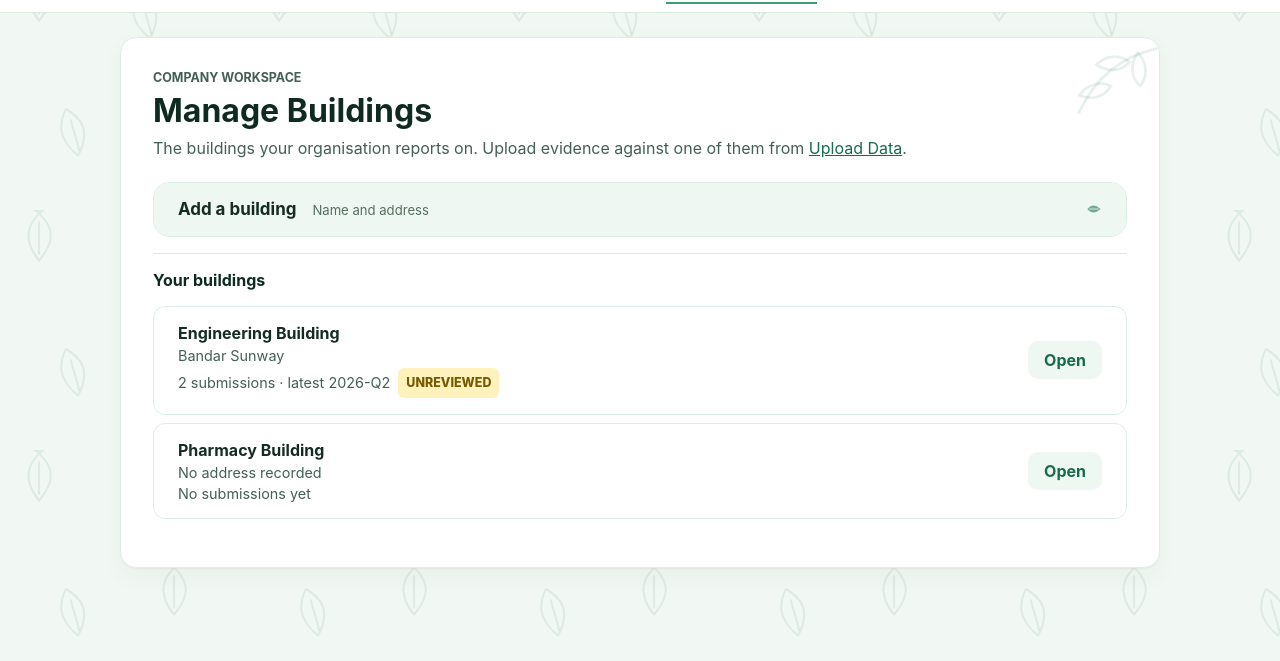
Scenario: assigning auditors to a submission › a submission can be given more than one auditor
Expected: the heading "Engineering Building" is shown, [178,323,340,343]
Click the button "Open" in the row of "Bandar Sunway" at (1065, 360), box [1028,341,1102,379]
(page scrolled)
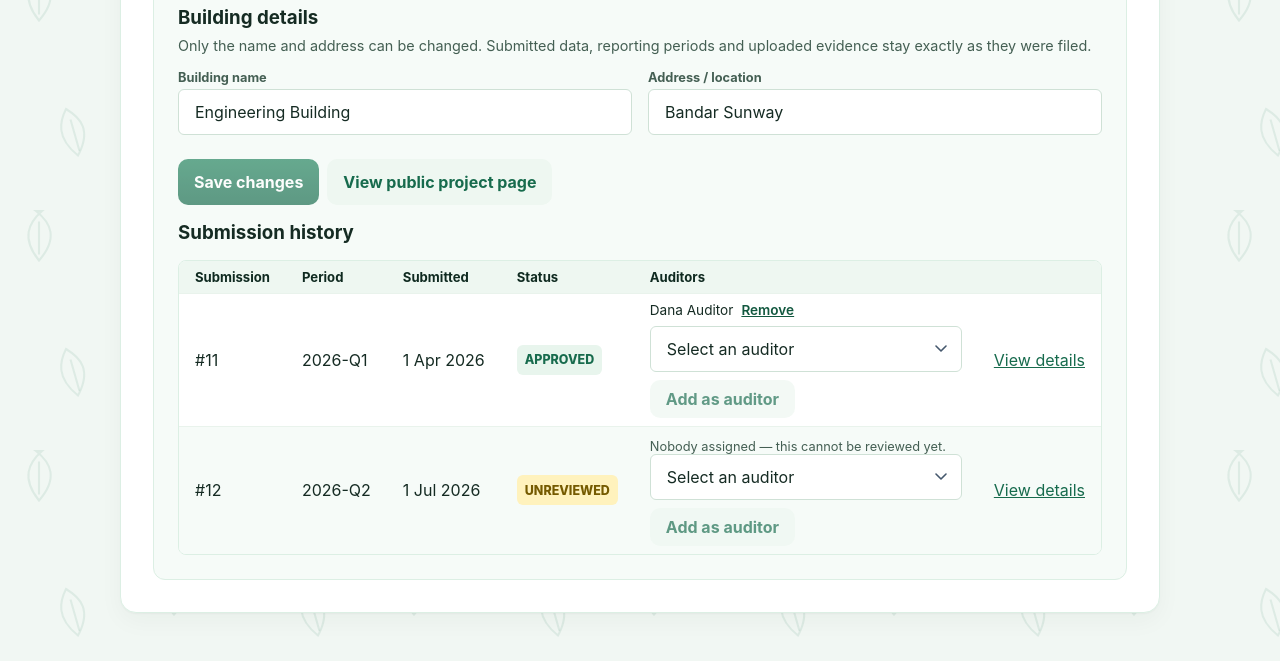
Select "Dana Auditor (dana@greenchain.test)" in the dropdown named "Add an auditor to submission 12" in the row of "12" at (806, 477), box [650,454,962,500]
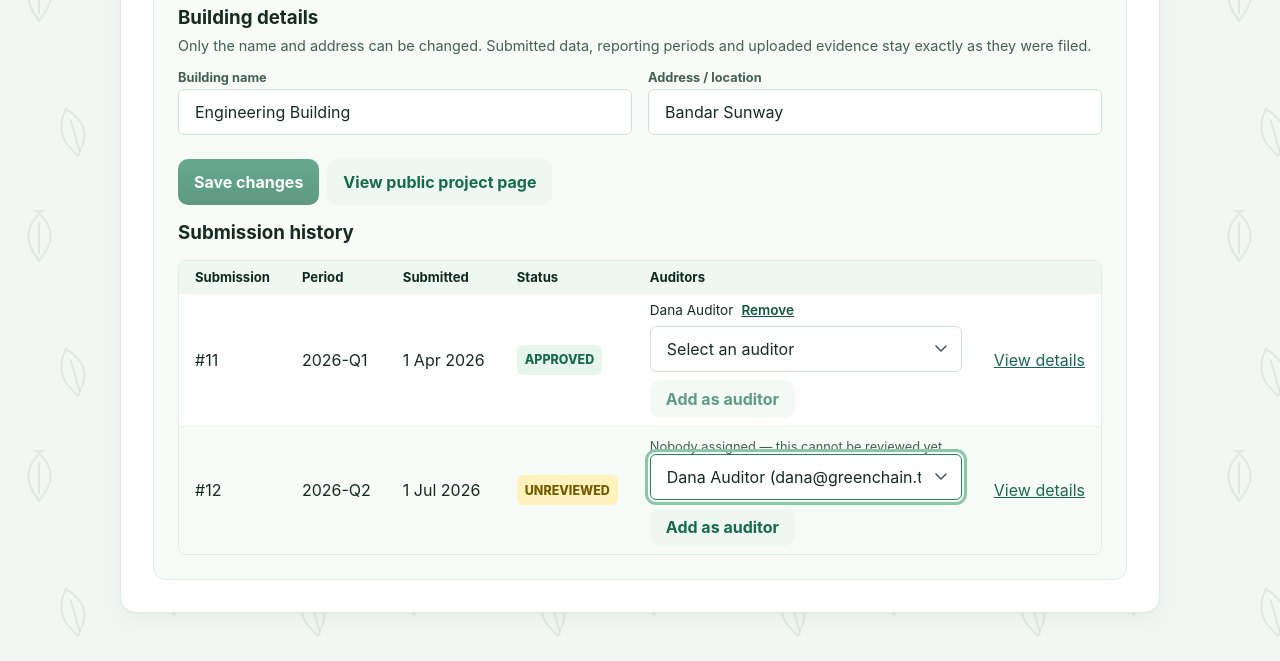
Click the button "Add as auditor" below "1 Jul 2026" at (722, 527), box [650,508,795,546]
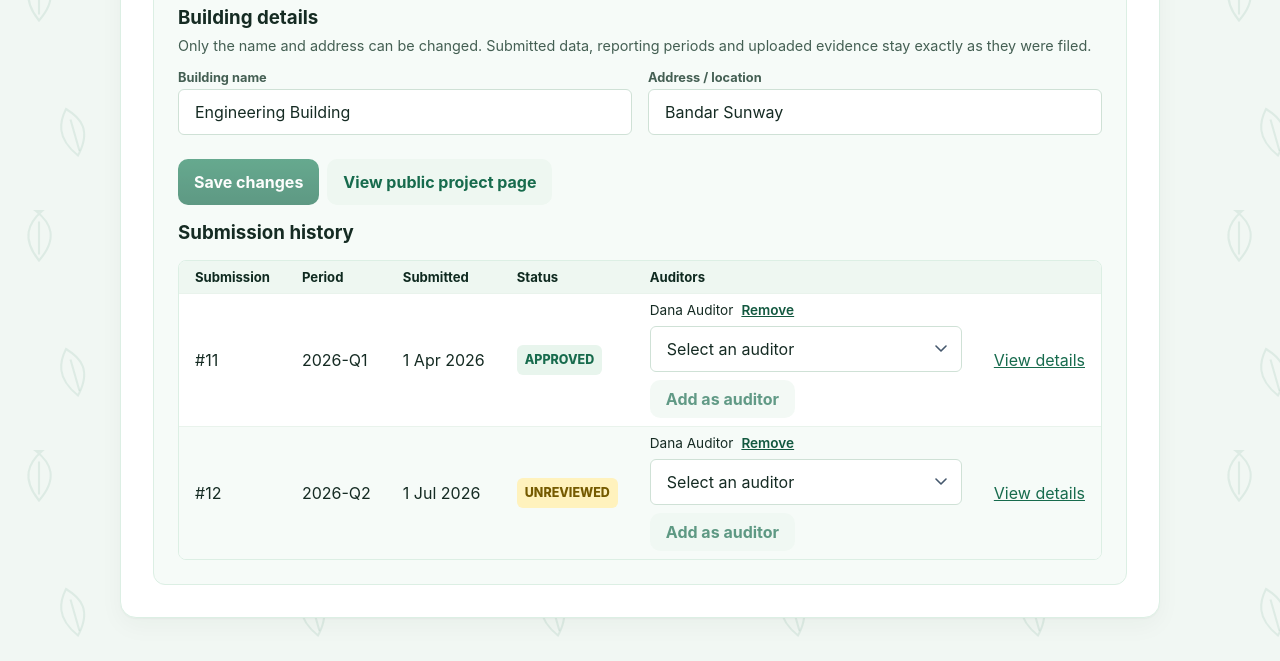
Select "Sam Auditor (sam@greenchain.test)" in the dropdown named "Add an auditor to submission 12" in the row of "12" at (806, 482), box [650,459,962,505]
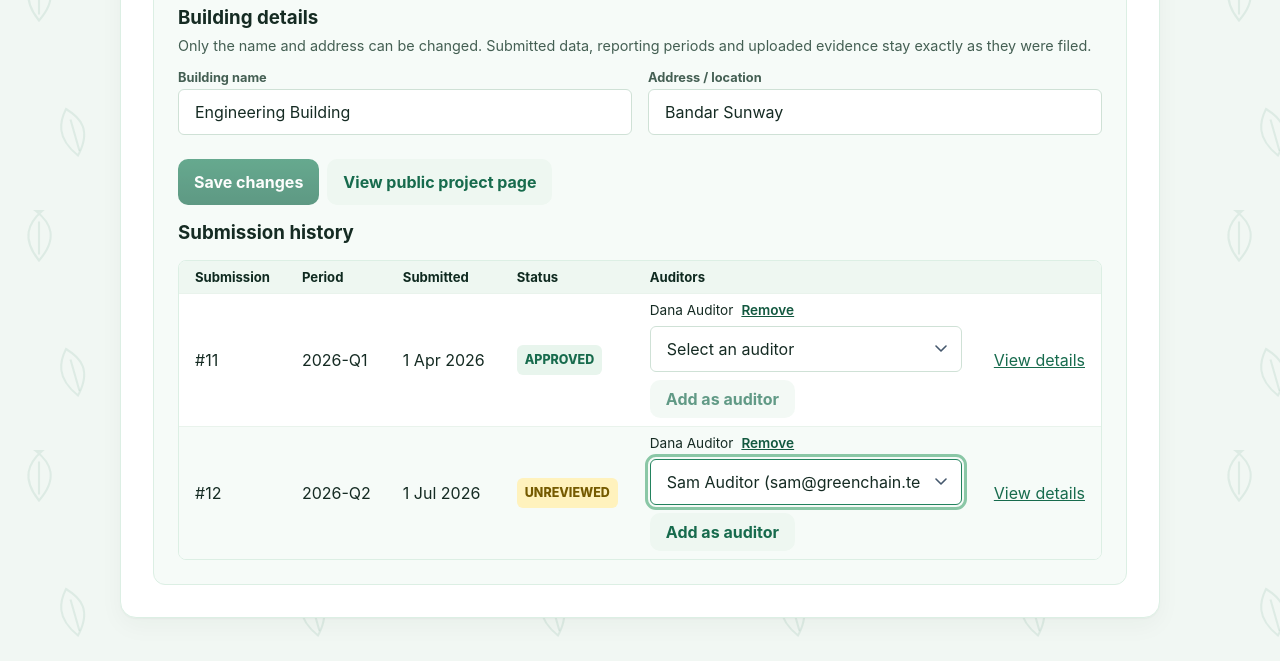
Click the button "Add as auditor" below "1 Jul 2026" at (722, 532), box [650,513,795,551]
(page scrolled)
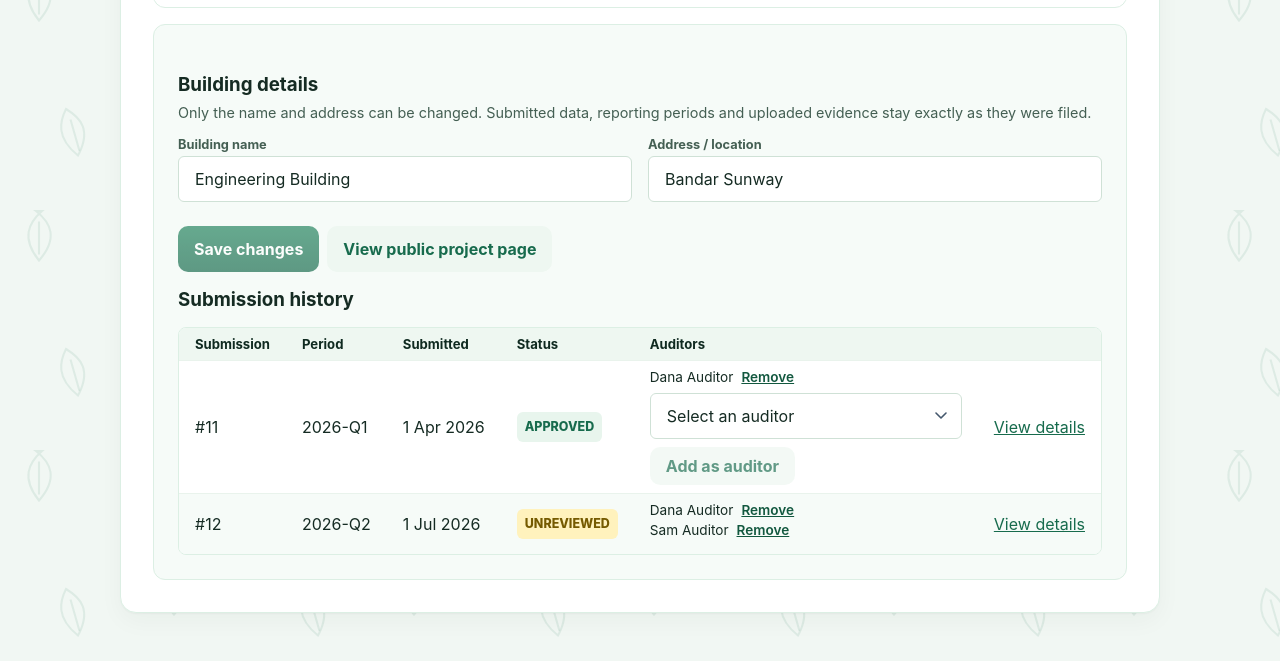
Result: the text "Dana Auditor" in the row of "12" is shown at [650,502,733,518]
Result: the text "Sam Auditor" is shown at [650,522,728,538]
